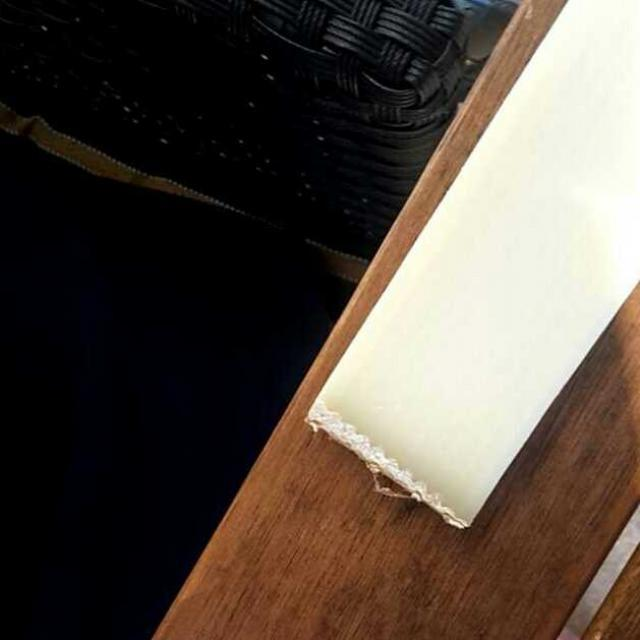gruyere: (306, 8, 625, 550)
